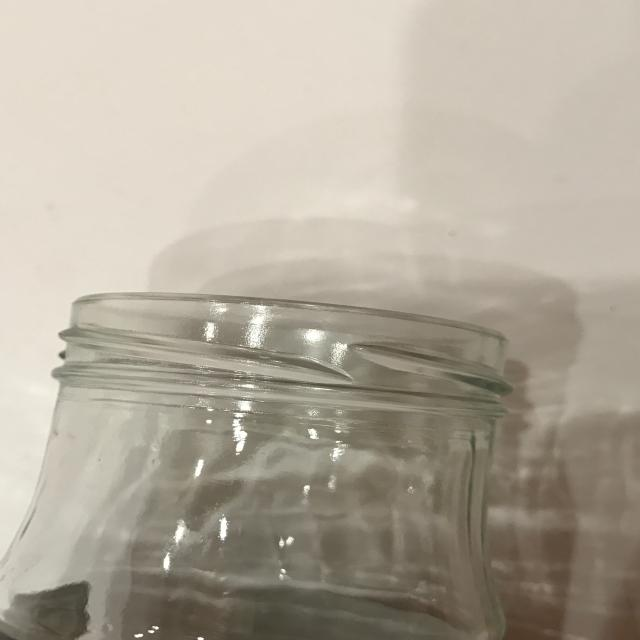glass: (0, 290, 514, 640)
